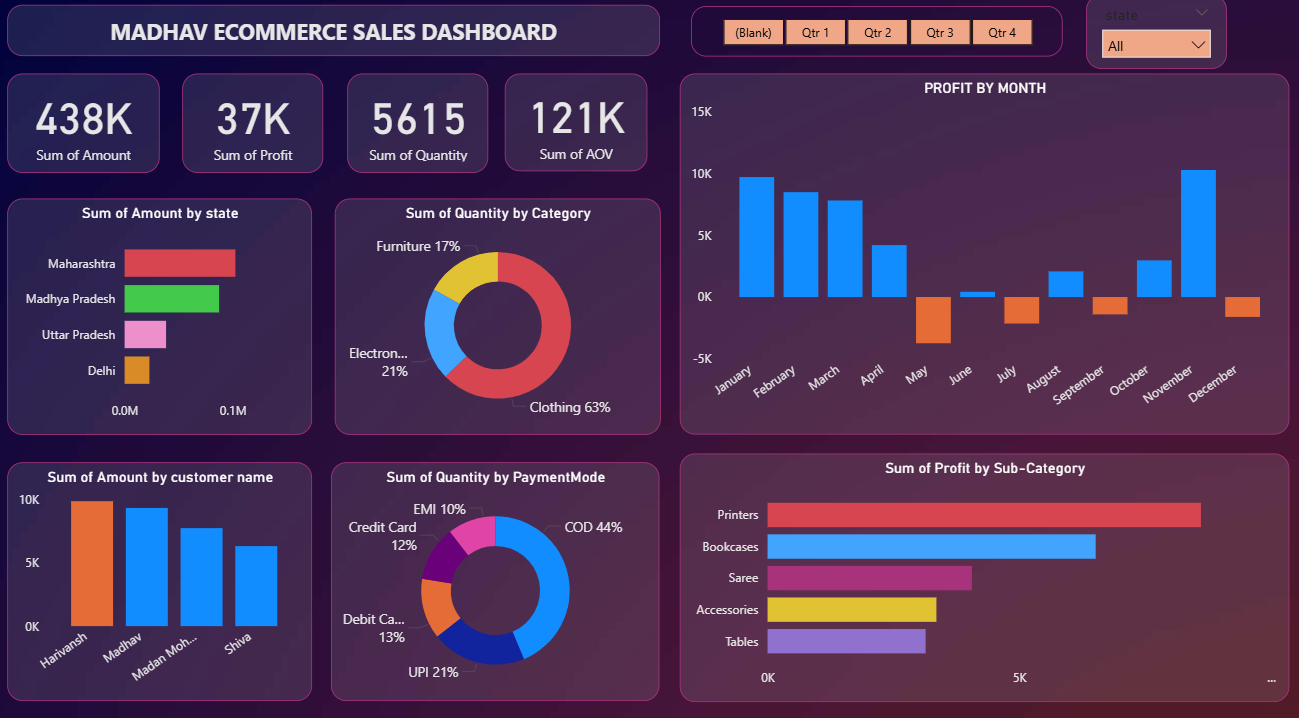

This screenshot's page, from the dashboard's own definition file:
{"tool":"powerbi","page":{"name":"Page 1","canvas":[1280,720],"ordinal":0},"visuals":[{"type":"textbox","box":[11,17.8,640.8,50.8],"z":0},{"type":"columnChart","title":"PROFIT BY MONTH","fields":{"Category":["Orders.order date .Variation.Date Hierarchy.Month"],"Y":["Sum(Details.Profit)"]},"box":[671,86.4,598.3,354],"z":1000},{"type":"clusteredBarChart","fields":{"Category":["Details.Sub-Category"],"Y":["Sum(Details.Profit)"]},"box":[671,458.3,598.3,244.3],"z":2000},{"type":"donutChart","fields":{"Category":["Details.Category"],"Y":["Sum(Details.Quantity)"]},"box":[332.1,208.6,319.7,231.9],"z":3000},{"type":"donutChart","fields":{"Category":["Details.PaymentMode","Details.Category"],"Y":["Sum(Details.Quantity)"]},"box":[329.3,467.9,322.5,234.6],"z":4000},{"type":"card","fields":{"Values":["Sum(Details.Amount)"]},"box":[11,86.4,149.6,97.4],"z":5000},{"type":"card","fields":{"Values":["Sum(Details.Profit)"]},"box":[182.5,86.4,138.6,97.4],"z":6000},{"type":"card","fields":{"Values":["Sum(Details.Quantity)"]},"box":[344.4,86.4,138.6,97.4],"z":7000},{"type":"card","fields":{"Values":["Sum(Details.AOV)"]},"box":[499.5,86.4,140,96.1],"z":8000},{"type":"clusteredBarChart","fields":{"Category":["Orders.state"],"Y":["Sum(Details.Amount)"]},"box":[11,208.6,299.1,231.9],"z":9000},{"type":"columnChart","fields":{"Category":["Orders.customer name"],"Y":["Sum(Details.Amount)"]},"box":[11,467.9,299.1,234.6],"z":10000},{"type":"slicer","fields":{"Values":["Orders.order date .Variation.Date Hierarchy.Quarter"]},"box":[682,19.2,365,49.4],"z":11000},{"type":"slicer","fields":{"Values":["Orders.state"]},"box":[1070.3,8.2,138.6,72.7],"z":12000}]}

Visuals, with their boxes in screenshot pixels (x1, y1, x2, y2), scaled from the page's 1280x720 canvas onto the 1299x718 screenshot:
textbox: box=[11, 18, 661, 68]
"PROFIT BY MONTH" columnChart: box=[681, 86, 1288, 439]
clusteredBarChart - Details.Sub-Category x Sum(Details.Profit): box=[681, 457, 1288, 701]
donutChart - Details.Category x Sum(Details.Quantity): box=[337, 208, 661, 439]
donutChart - Details.PaymentMode x Details.Category: box=[334, 467, 661, 701]
card - Sum(Details.Amount): box=[11, 86, 163, 183]
card - Sum(Details.Profit): box=[185, 86, 326, 183]
card - Sum(Details.Quantity): box=[350, 86, 490, 183]
card - Sum(Details.AOV): box=[507, 86, 649, 182]
clusteredBarChart - Orders.state x Sum(Details.Amount): box=[11, 208, 315, 439]
columnChart - Orders.customer name x Sum(Details.Amount): box=[11, 467, 315, 701]
slicer - Orders.order date .Variation.Date Hierarchy.Quarter: box=[692, 19, 1063, 68]
slicer - Orders.state: box=[1086, 8, 1227, 81]
